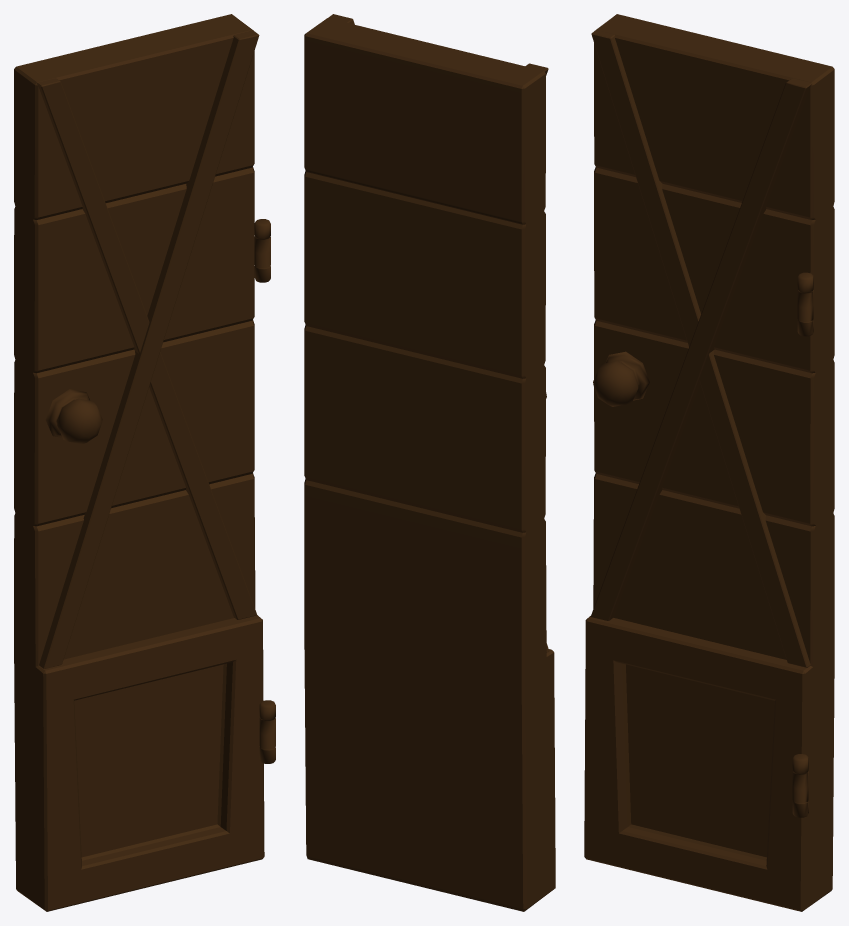
Rendered from SM_Carriage_Door_R_Unity.fbx.
The picture shows the model from 3 angles, left to right: view 1: azimuth 30°, elevation 25°; view 2: azimuth 150°, elevation 25°; view 3: azimuth 330°, elevation 25°; orthographic projection.
Parts seen in each view (by area): view 1: SM_Carriage_Door_handel_low.001; view 2: SM_Carriage_Door_handel_low.001; view 3: SM_Carriage_Door_handel_low.001.
Part boxes in pixels (x1,y1,x2,y2): SM_Carriage_Door_handel_low.001: [14, 14, 275, 911]; SM_Carriage_Door_handel_low.001: [304, 14, 555, 911]; SM_Carriage_Door_handel_low.001: [584, 14, 834, 911].
Bounding box in the file's own units: 64.39 × 223 × 21.41.
